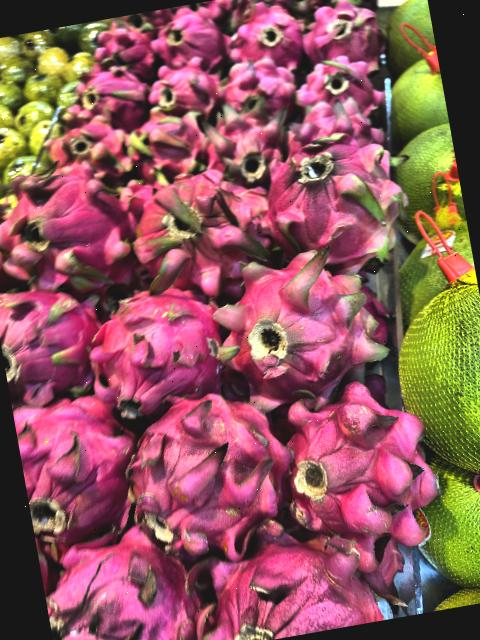buah-naga-matang: (99, 370, 290, 560), (196, 237, 398, 406), (273, 380, 444, 578), (179, 515, 381, 640), (255, 103, 401, 268), (78, 274, 232, 420), (0, 148, 139, 294), (11, 384, 136, 544), (114, 154, 260, 287), (38, 536, 189, 640), (0, 271, 105, 407)
